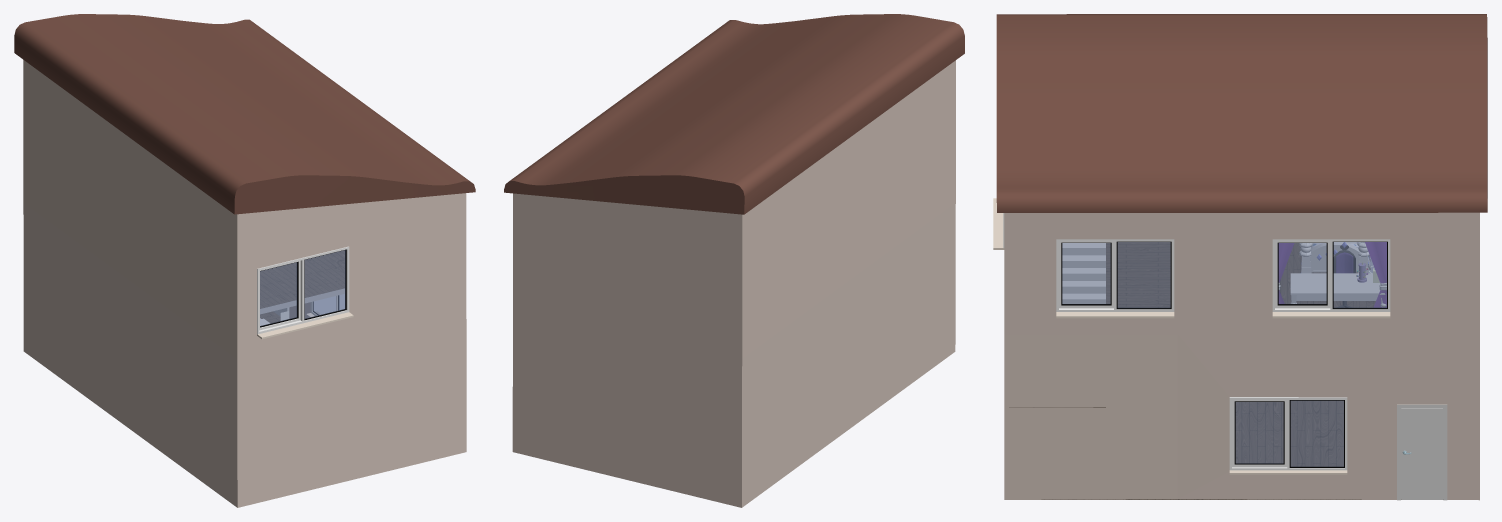
The model's file is Rarity House.fbx.
3 renders of one model, left to right at view 1: azimuth 30°, elevation 25°; view 2: azimuth 150°, elevation 25°; view 3: azimuth 270°, elevation 25°, orthographic. The views are drawn at different scales.
Parts seen in each view (by area): view 1: Room.002, Roof, Window.003, Floor.001, Window.001; view 2: Room.002, Roof; view 3: Room.002, Roof, Window.002, Window, Window.001, Stairs.003, Floor.001, Door.001, Stairs, Table, Curtains, Bed (+3 smaller).
Boxes of the visible parts, bbox=[...] form: Room.002: bbox=[23, 60, 466, 507]; Roof: bbox=[14, 14, 475, 214]; Window.003: bbox=[257, 246, 353, 339]; Floor.001: bbox=[260, 250, 344, 314]; Window.001: bbox=[306, 294, 344, 317]; Room.002: bbox=[512, 60, 955, 507]; Roof: bbox=[504, 14, 964, 214]; Room.002: bbox=[1004, 212, 1479, 500]; Roof: bbox=[996, 14, 1487, 212]; Window.002: bbox=[1056, 239, 1174, 318]; Window: bbox=[1272, 239, 1390, 318]; Window.001: bbox=[1229, 397, 1347, 474]; Stairs.003: bbox=[1041, 400, 1443, 499]; Floor.001: bbox=[1106, 242, 1170, 307]; Door.001: bbox=[1401, 408, 1442, 499]; Stairs: bbox=[1062, 243, 1105, 303]; Table: bbox=[1290, 273, 1386, 307]; Curtains: bbox=[1278, 242, 1386, 307]; Bed: bbox=[1299, 242, 1369, 273].
Bounding box in the file's own units: 6.24 × 8.08 × 9.86.
48 materials, 23 textured.
